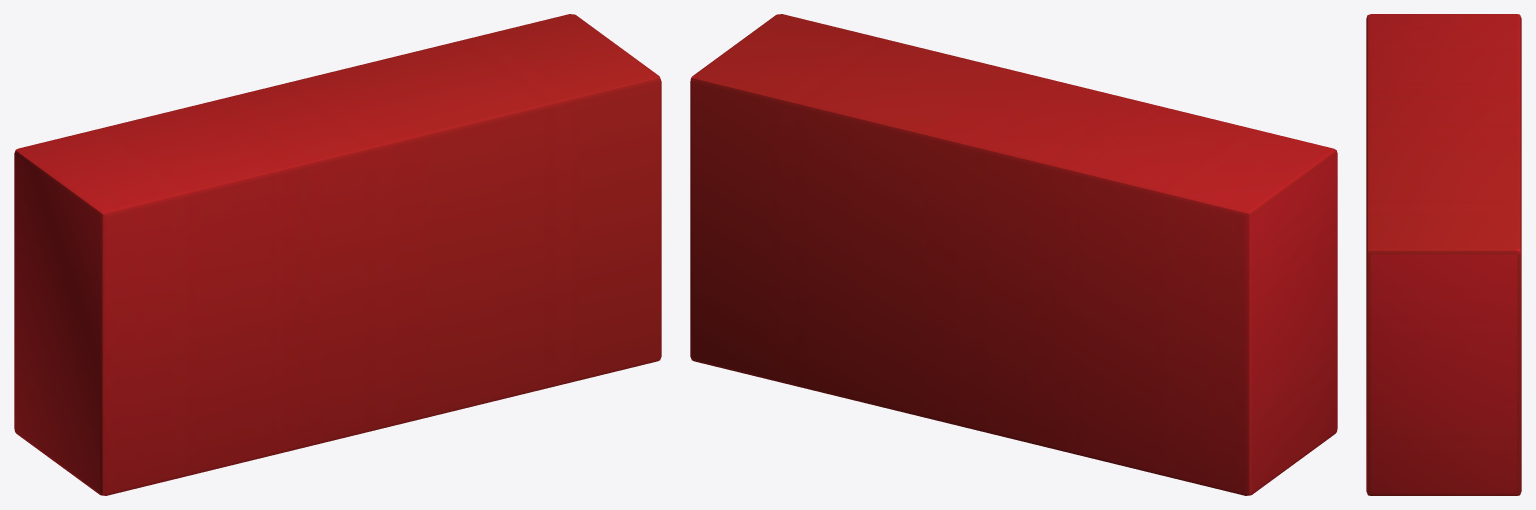
The model's file is Brick.FBX.
3 renders of one model, left to right at view 1: azimuth 30°, elevation 25°; view 2: azimuth 150°, elevation 25°; view 3: azimuth 270°, elevation 25°, orthographic. The views are drawn at different scales.
Visible parts, largest first — view 1: Brick; view 2: Brick; view 3: Brick.
Boxes of the visible parts, x1,y1,x2,y2 form: Brick: [14, 14, 661, 495]; Brick: [690, 14, 1337, 495]; Brick: [1366, 14, 1521, 495].
Size of the model in its own units: 21 by 10.2 by 5.8.
